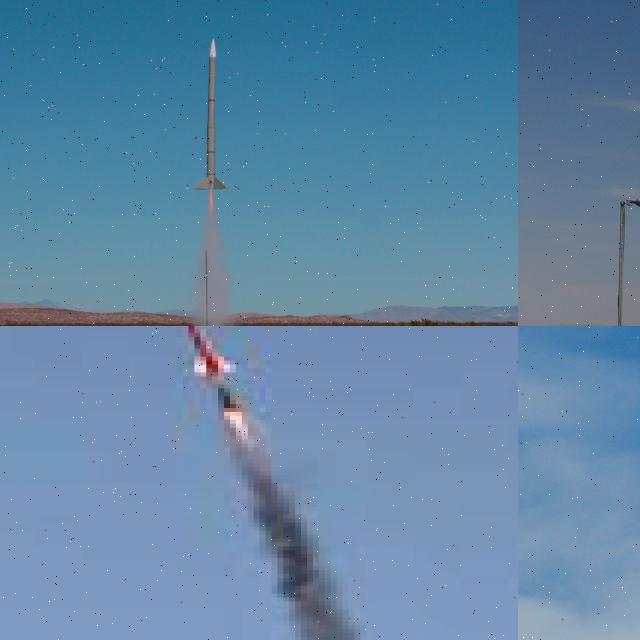Rocket: (146, 326, 241, 384), (194, 37, 229, 191)
